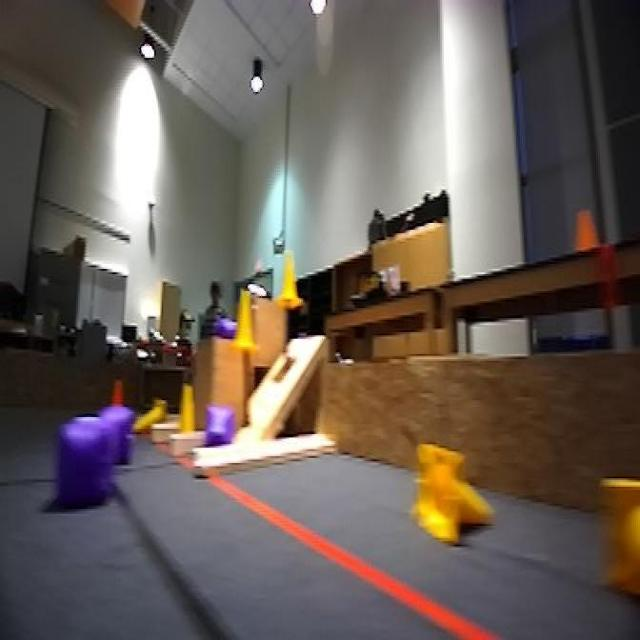frc_cone: (413, 436, 497, 553), (600, 470, 640, 640), (234, 293, 263, 354), (278, 247, 304, 313), (130, 400, 176, 434), (179, 383, 196, 432)
frc_cube: (57, 414, 116, 509), (100, 416, 138, 462), (203, 402, 239, 446), (217, 312, 241, 347)
